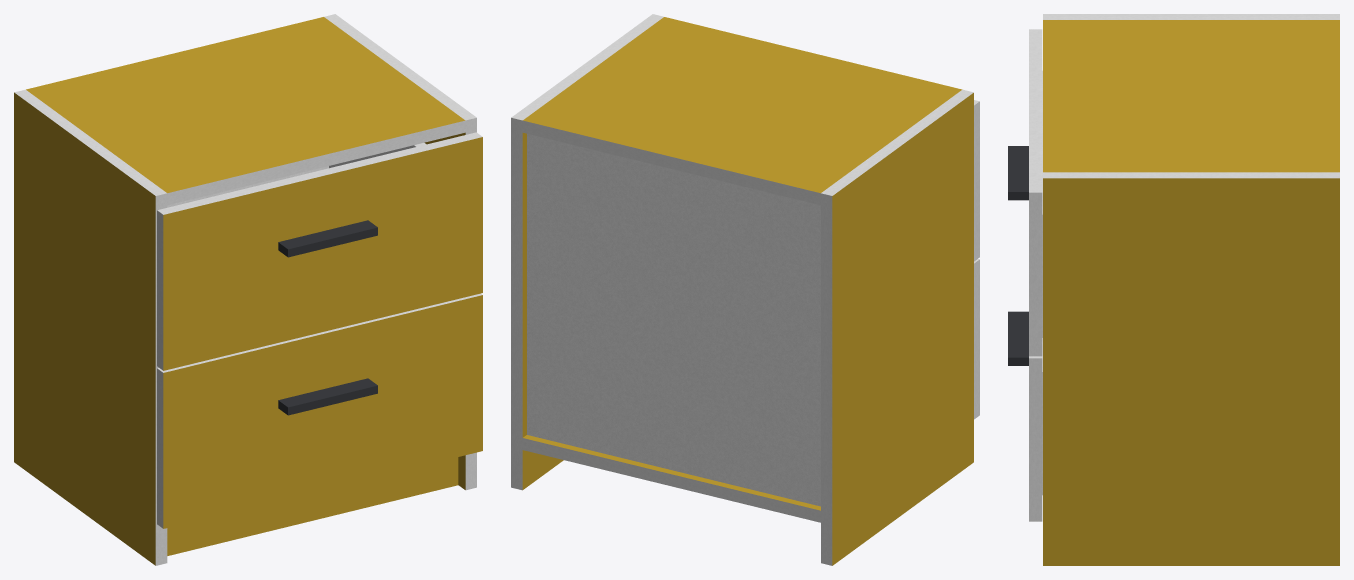
Rendered from FET-NST-std.glb.
3 views of the same model, side by side, from view 1: azimuth 30°, elevation 25°; view 2: azimuth 150°, elevation 25°; view 3: azimuth 270°, elevation 25° (orthographic). The views are drawn at different scales.
Visible parts, largest first — view 1: side-l:pbr, d1-front:pbr, d2-front:pbr, top:pbr, plinth:pbr, top:sheet:eyJtIjoibWRmIiwic2lkZSI6ImVkZ2UtbG9uZyIsInNlZWQiOj, pull, d2-front:sheet:eyJtIjoibWRmIiwic2lkZSI6ImVkZ2UtbG9uZyIsInNlZ, side-r:sheet:eyJtIjoibWRmIiwic2lkZSI6ImVkZ2UtZW5kIiwic2VlZCI, side-l:sheet:eyJtIjoibWRmIiwic2lkZSI6ImVkZ2UtZW5kIiwic2VlZCI, side-l:sheet:eyJtIjoibWRmIiwic2lkZSI6ImVkZ2UtbG9uZyIsInNlZWQ, d1-front:sheet:eyJtIjoibWRmIiwic2lkZSI6ImVkZ2UtZW5kIiwic2VlZ (+3 smaller); view 2: back:sheet:eyJtIjoibWRmIiwic2lkZSI6ImZhY2UiLCJzZWVkIjo0LCJ0a, side-l:pbr, top:pbr, side-r:sheet:eyJtIjoibWRmIiwic2lkZSI6ImVkZ2UtbG9uZyIsInNlZWQ, side-l:sheet:eyJtIjoibWRmIiwic2lkZSI6ImVkZ2UtbG9uZyIsInNlZWQ, bottom:sheet:eyJtIjoibWRmIiwic2lkZSI6ImVkZ2UtbG9uZyIsInNlZWQ, top:sheet:eyJtIjoibWRmIiwic2lkZSI6ImVkZ2UtbG9uZyIsInNlZWQiOj, side-r:pbr, side-l:sheet:eyJtIjoibWRmIiwic2lkZSI6ImVkZ2UtZW5kIiwic2VlZCI, side-r:sheet:eyJtIjoibWRmIiwic2lkZSI6ImVkZ2UtZW5kIiwic2VlZCI, bottom:pbr, d1-front:sheet:eyJtIjoibWRmIiwic2lkZSI6ImVkZ2UtZW5kIiwic2VlZ (+1 smaller); view 3: side-r:pbr, top:pbr, pull, d2-front:sheet:eyJtIjoibWRmIiwic2lkZSI6ImVkZ2UtZW5kIiwic2VlZ, d1-front:sheet:eyJtIjoibWRmIiwic2lkZSI6ImVkZ2UtZW5kIiwic2VlZ, d2-front:sheet:eyJtIjoibWRmIiwic2lkZSI6ImVkZ2UtbG9uZyIsInNlZ, side-r:sheet:eyJtIjoibWRmIiwic2lkZSI6ImVkZ2UtZW5kIiwic2VlZCI, side-l:sheet:eyJtIjoibWRmIiwic2lkZSI6ImVkZ2UtZW5kIiwic2VlZCI.
Part boxes in pixels (x1=…): side-l:pbr: x1=14, y1=92, x2=155, y2=565; d1-front:pbr: x1=163, y1=295, x2=482, y2=528; d2-front:pbr: x1=163, y1=137, x2=482, y2=370; top:pbr: x1=26, y1=17, x2=465, y2=193; plinth:pbr: x1=167, y1=457, x2=458, y2=555; top:sheet:eyJtIjoibWRmIiwic2lkZSI6ImVkZ2UtbG9uZyIsInNlZWQiOj: x1=167, y1=120, x2=465, y2=205; pull: x1=278, y1=220, x2=377, y2=415; d2-front:sheet:eyJtIjoibWRmIiwic2lkZSI6ImVkZ2UtbG9uZyIsInNlZ: x1=157, y1=132, x2=482, y2=214; side-r:sheet:eyJtIjoibWRmIiwic2lkZSI6ImVkZ2UtZW5kIiwic2VlZCI: x1=324, y1=14, x2=476, y2=120; side-l:sheet:eyJtIjoibWRmIiwic2lkZSI6ImVkZ2UtZW5kIiwic2VlZCI: x1=14, y1=89, x2=166, y2=195; side-l:sheet:eyJtIjoibWRmIiwic2lkZSI6ImVkZ2UtbG9uZyIsInNlZWQ: x1=155, y1=193, x2=167, y2=565; d1-front:sheet:eyJtIjoibWRmIiwic2lkZSI6ImVkZ2UtZW5kIiwic2VlZ: x1=157, y1=368, x2=163, y2=528; back:sheet:eyJtIjoibWRmIiwic2lkZSI6ImZhY2UiLCJzZWVkIjo0LCJ0a: x1=527, y1=133, x2=820, y2=506; side-l:pbr: x1=832, y1=93, x2=973, y2=565; top:pbr: x1=523, y1=17, x2=962, y2=193; side-r:sheet:eyJtIjoibWRmIiwic2lkZSI6ImVkZ2UtbG9uZyIsInNlZWQ: x1=511, y1=117, x2=522, y2=490; side-l:sheet:eyJtIjoibWRmIiwic2lkZSI6ImVkZ2UtbG9uZyIsInNlZWQ: x1=821, y1=193, x2=832, y2=565; bottom:sheet:eyJtIjoibWRmIiwic2lkZSI6ImVkZ2UtbG9uZyIsInNlZWQ: x1=522, y1=438, x2=820, y2=522; top:sheet:eyJtIjoibWRmIiwic2lkZSI6ImVkZ2UtbG9uZyIsInNlZWQiOj: x1=522, y1=120, x2=820, y2=205; side-r:pbr: x1=522, y1=133, x2=563, y2=489; side-l:sheet:eyJtIjoibWRmIiwic2lkZSI6ImVkZ2UtZW5kIiwic2VlZCI: x1=821, y1=89, x2=973, y2=195; side-r:sheet:eyJtIjoibWRmIiwic2lkZSI6ImVkZ2UtZW5kIiwic2VlZCI: x1=511, y1=14, x2=663, y2=120; bottom:pbr: x1=523, y1=435, x2=820, y2=510; d1-front:sheet:eyJtIjoibWRmIiwic2lkZSI6ImVkZ2UtZW5kIiwic2VlZ: x1=974, y1=259, x2=979, y2=419; side-r:pbr: x1=1043, y1=178, x2=1339, y2=565; top:pbr: x1=1043, y1=20, x2=1339, y2=172; pull: x1=1008, y1=146, x2=1028, y2=365; d2-front:sheet:eyJtIjoibWRmIiwic2lkZSI6ImVkZ2UtZW5kIiwic2VlZ: x1=1029, y1=192, x2=1042, y2=356; d1-front:sheet:eyJtIjoibWRmIiwic2lkZSI6ImVkZ2UtZW5kIiwic2VlZ: x1=1029, y1=358, x2=1042, y2=521; d2-front:sheet:eyJtIjoibWRmIiwic2lkZSI6ImVkZ2UtbG9uZyIsInNlZ: x1=1029, y1=29, x2=1042, y2=192; side-r:sheet:eyJtIjoibWRmIiwic2lkZSI6ImVkZ2UtZW5kIiwic2VlZCI: x1=1043, y1=172, x2=1339, y2=178; side-l:sheet:eyJtIjoibWRmIiwic2lkZSI6ImVkZ2UtZW5kIiwic2VlZCI: x1=1043, y1=14, x2=1339, y2=19.
Size of the model in its own units: 0.5 by 0.55 by 0.4267.
55 materials, 47 textured.
